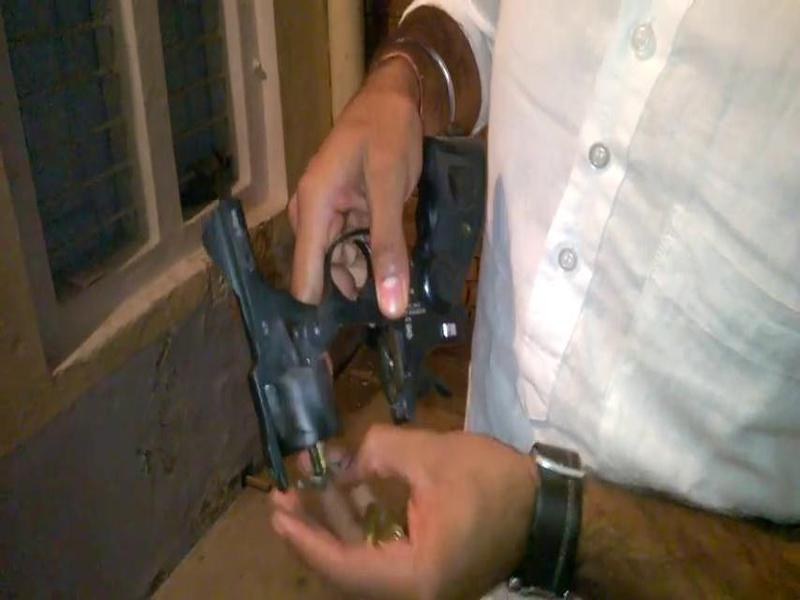Revolver: (190, 161, 355, 513)
